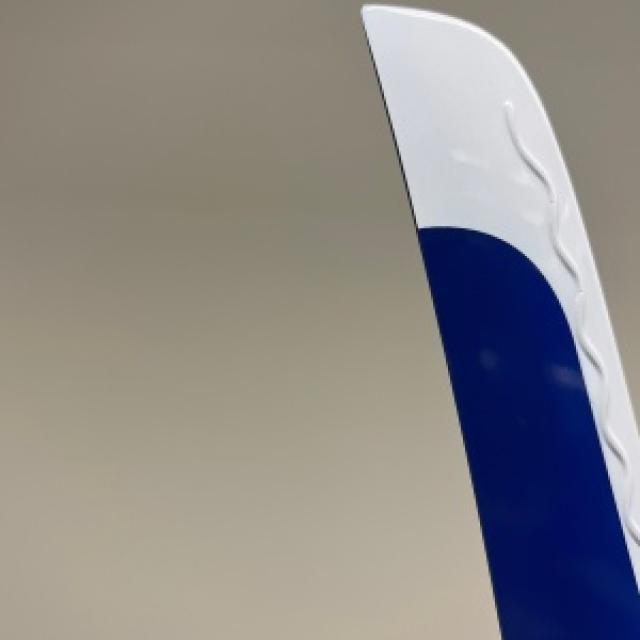healthy: (363, 4, 638, 638)
